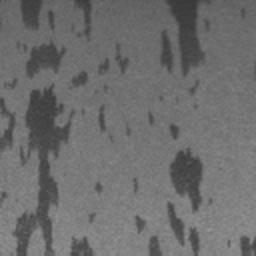Red iron sheet: (0, 0, 205, 256), (159, 0, 211, 96), (241, 234, 256, 256), (95, 183, 104, 193), (133, 177, 137, 193)
